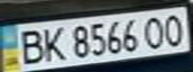5: (87, 20, 109, 57)
6: (121, 16, 145, 53), (106, 18, 127, 55)
8: (66, 21, 90, 59)
B: (12, 26, 48, 65)
K: (36, 24, 69, 62)
O: (139, 14, 169, 50), (160, 11, 190, 47)
